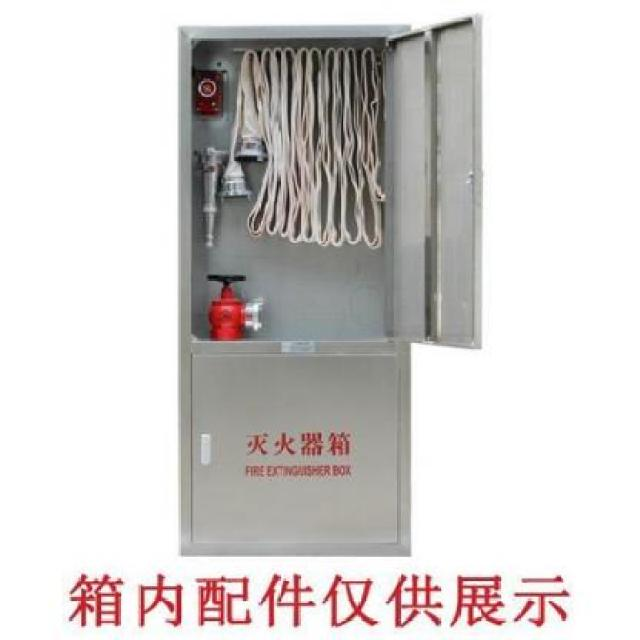firehydrant: (172, 6, 490, 561)
